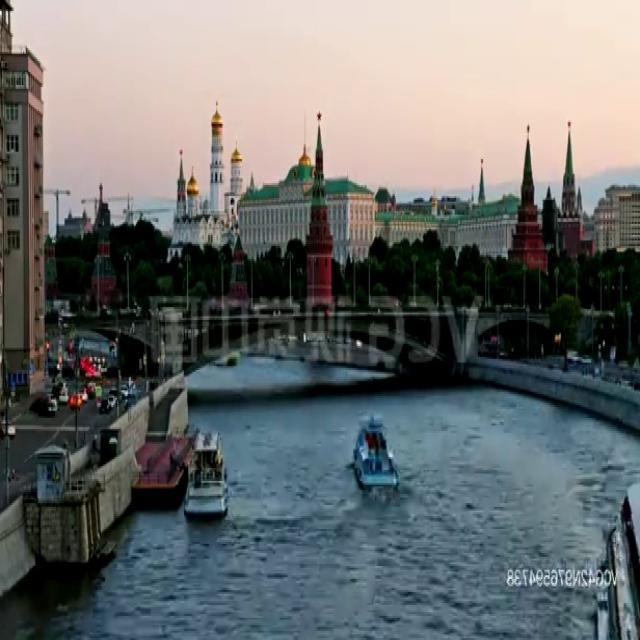passenger ship: (183, 427, 229, 518), (354, 417, 401, 491)
